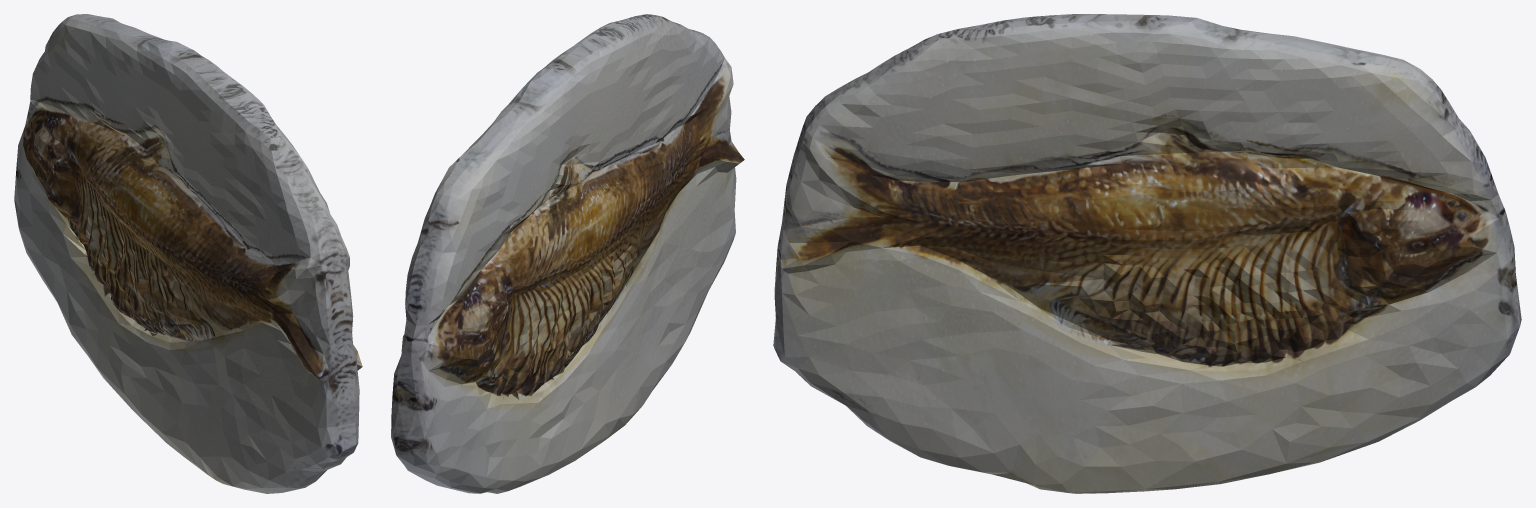
File: fish_fossils_001.glb
3 views of the same model, side by side, from view 1: azimuth 30°, elevation 25°; view 2: azimuth 150°, elevation 25°; view 3: azimuth 270°, elevation 25° (orthographic). The views are drawn at different scales.
Visible parts, largest first — view 1: tripo_node_96fd4e3c-fd90-4146-82fa-6bb2c525324a; view 2: tripo_node_96fd4e3c-fd90-4146-82fa-6bb2c525324a; view 3: tripo_node_96fd4e3c-fd90-4146-82fa-6bb2c525324a.
Boxes of the visible parts, x1,y1,x2,y2 form: tripo_node_96fd4e3c-fd90-4146-82fa-6bb2c525324a: (14, 14, 362, 493); tripo_node_96fd4e3c-fd90-4146-82fa-6bb2c525324a: (391, 14, 744, 493); tripo_node_96fd4e3c-fd90-4146-82fa-6bb2c525324a: (773, 14, 1521, 493).
Bounding box in the file's own units: 0.1224 × 0.656 × 0.9484.
Materials: 1 (1 with a texture image).
